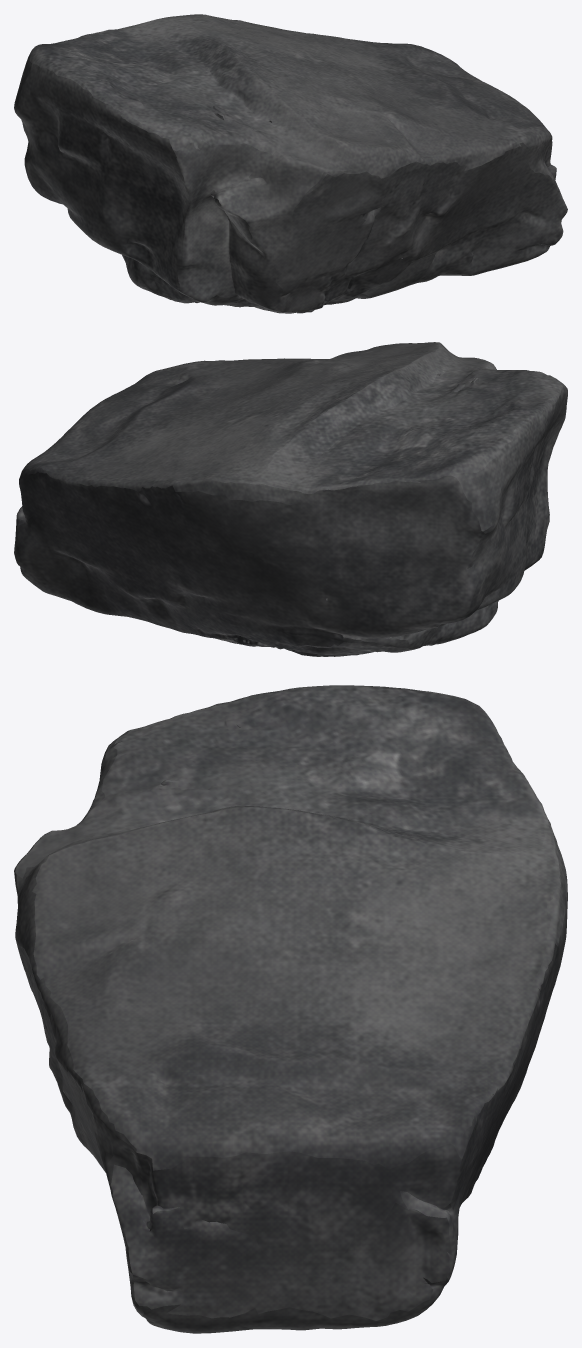
File: gate_passage_001_C2.glb
3 views of the same model, one above another, from view 1: azimuth 30°, elevation 25°; view 2: azimuth 150°, elevation 25°; view 3: azimuth 270°, elevation 25° (orthographic). The views are drawn at different scales.
Parts seen in each view (by area): view 1: world; view 2: world; view 3: world.
Part boxes in pixels (box(x1,y1,x2,y2)): world: box(14, 14, 567, 313); world: box(14, 342, 567, 656); world: box(14, 685, 567, 1333).
Size of the model in its own units: 3.5 by 1.79 by 2.54.
Materials: 1 (1 with a texture image).
